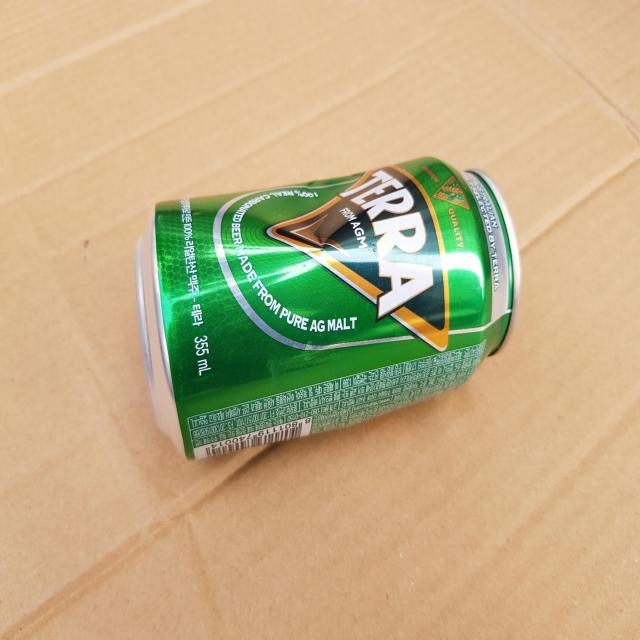can: (135, 156, 521, 459)
